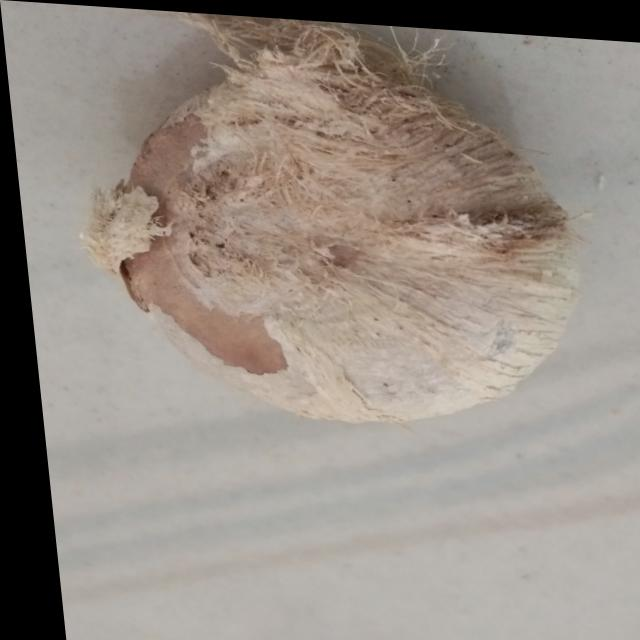phatora: (80, 6, 594, 451)
